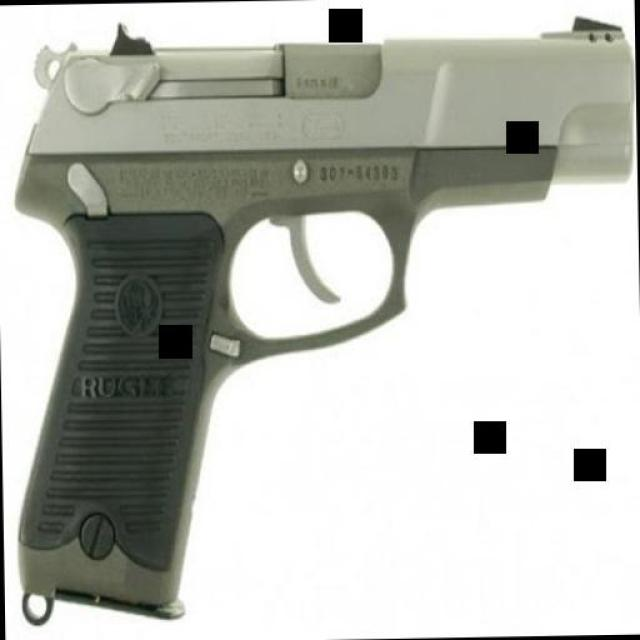gun: (6, 10, 639, 625)
